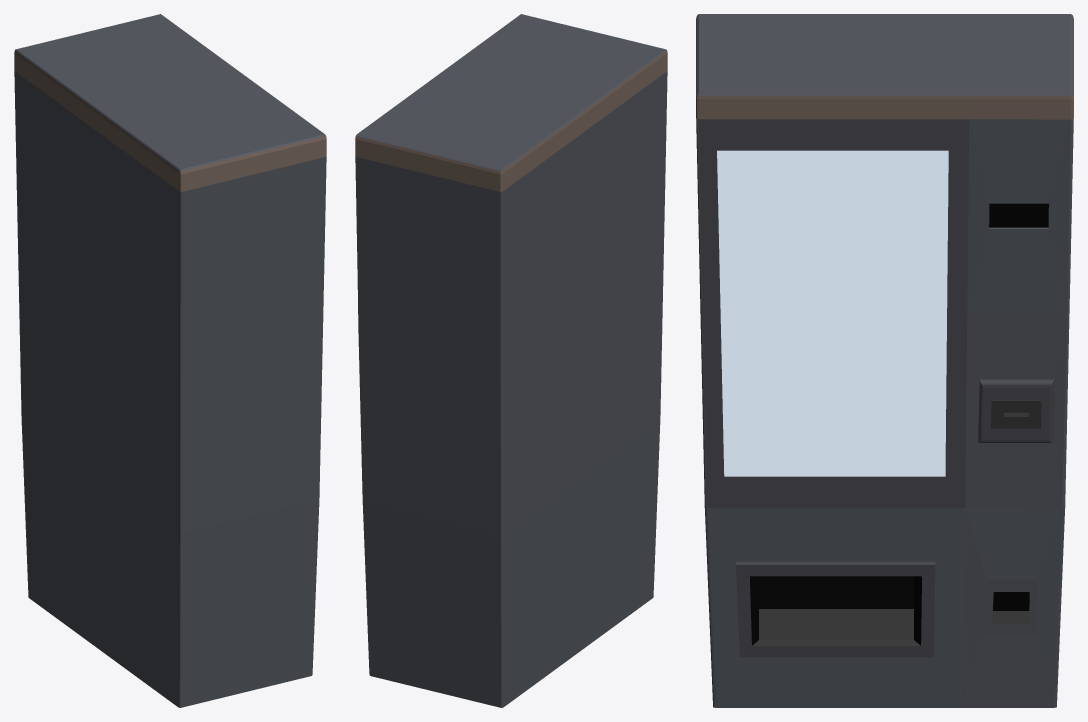
The model's file is GameAsset_VendingMachine_v01.fbx.
3 views of the same model, side by side, from view 1: azimuth 30°, elevation 25°; view 2: azimuth 150°, elevation 25°; view 3: azimuth 270°, elevation 25° (orthographic). The views are drawn at different scales.
Visible parts, largest first — view 1: snackbar; view 2: snackbar; view 3: snackbar.
Part boxes in pixels (x1=…): snackbar: x1=14, y1=14, x2=326, y2=707; snackbar: x1=355, y1=14, x2=667, y2=707; snackbar: x1=696, y1=14, x2=1073, y2=707.
Size of the model in its own units: 56.68 by 194 by 108.
